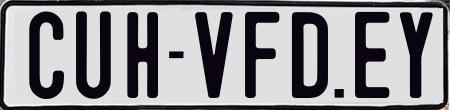C: (26, 9, 63, 98)
D: (292, 12, 334, 100)
E: (352, 10, 389, 97)
F: (245, 9, 281, 97)
H: (124, 10, 155, 98)
U: (73, 10, 114, 101)
V: (194, 9, 237, 95)
Y: (398, 10, 435, 101)
